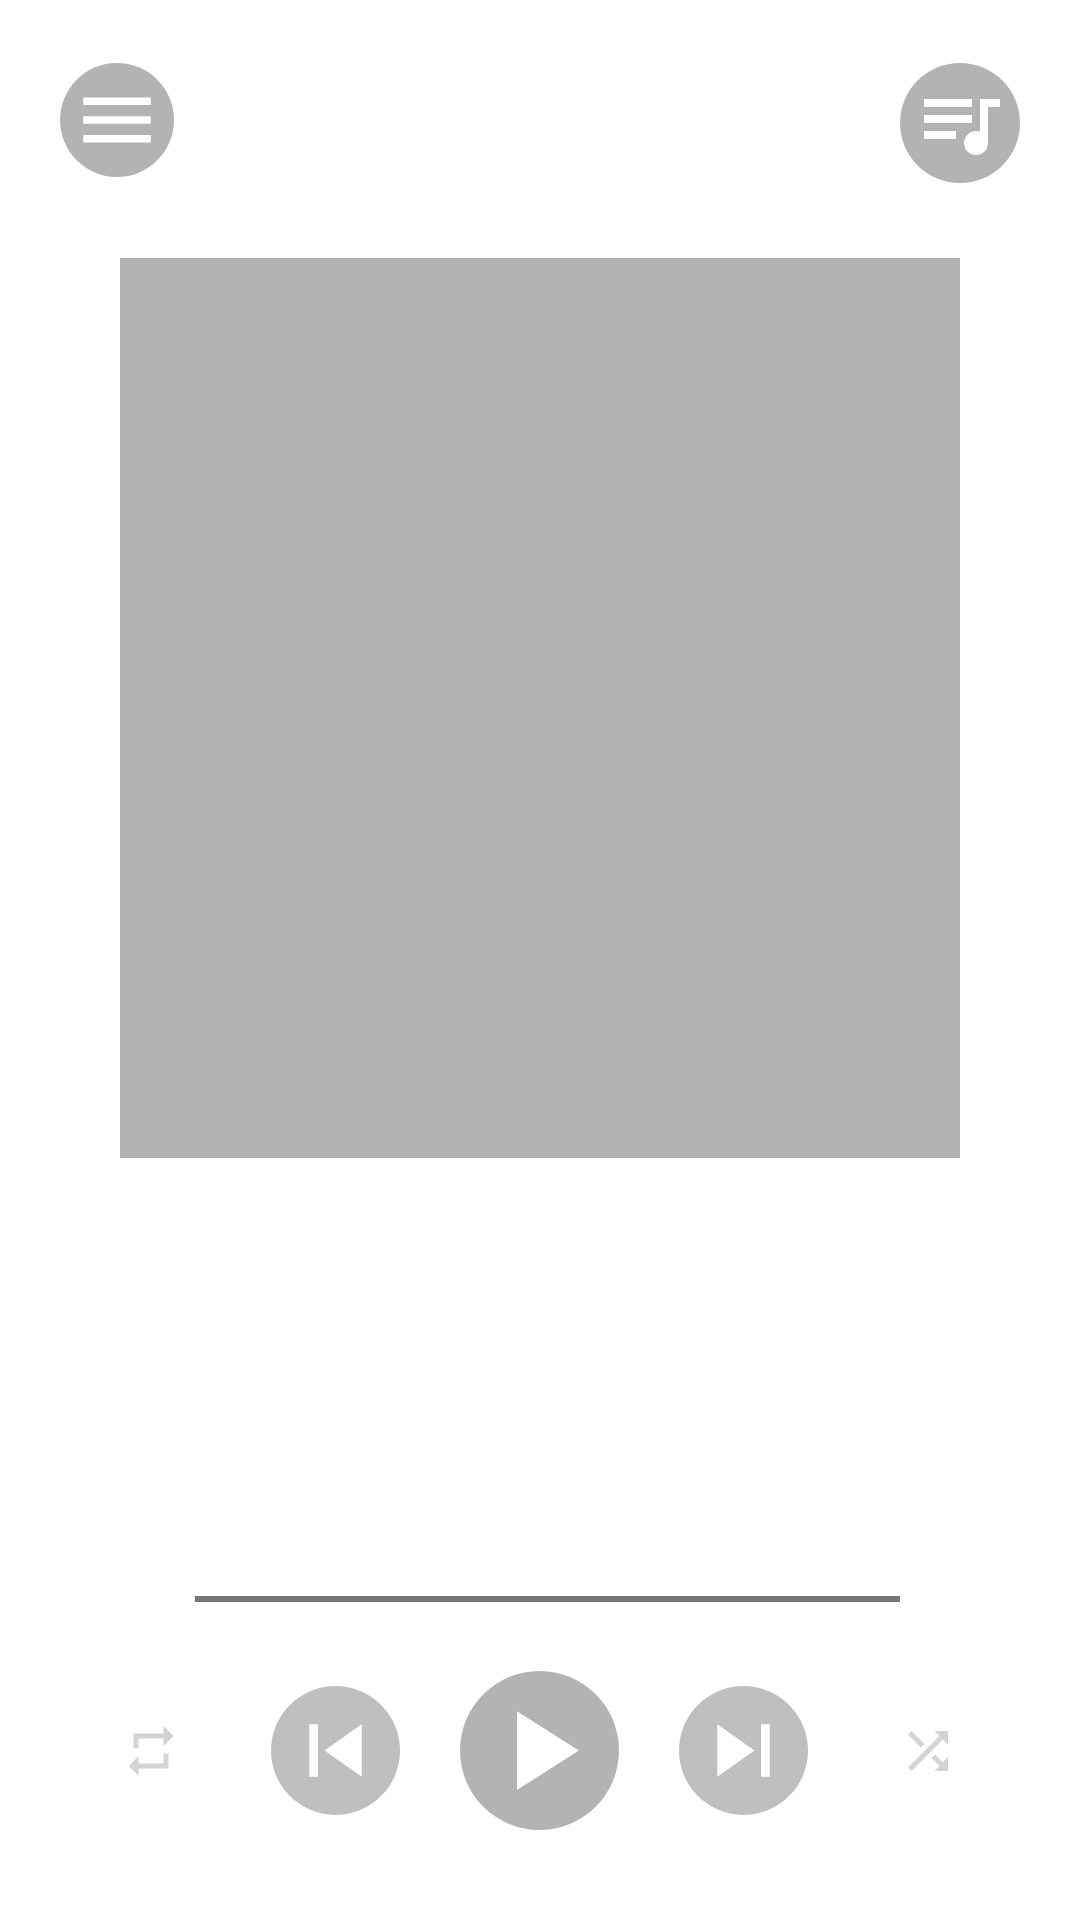

Named icons in this screenshot (1080x1920) and their bounding boxes, [left=x1, top=y1, right=x2, bottom=y2]:
menu: [left=60, top=63, right=174, bottom=177]
play button: [left=460, top=1671, right=619, bottom=1830]
queue music: [left=900, top=63, right=1020, bottom=183]
repeat: [left=129, top=1727, right=173, bottom=1775]
shuffle: [left=908, top=1731, right=948, bottom=1771]
skip next: [left=679, top=1686, right=808, bottom=1815]
skip previous: [left=271, top=1686, right=400, bottom=1815]
